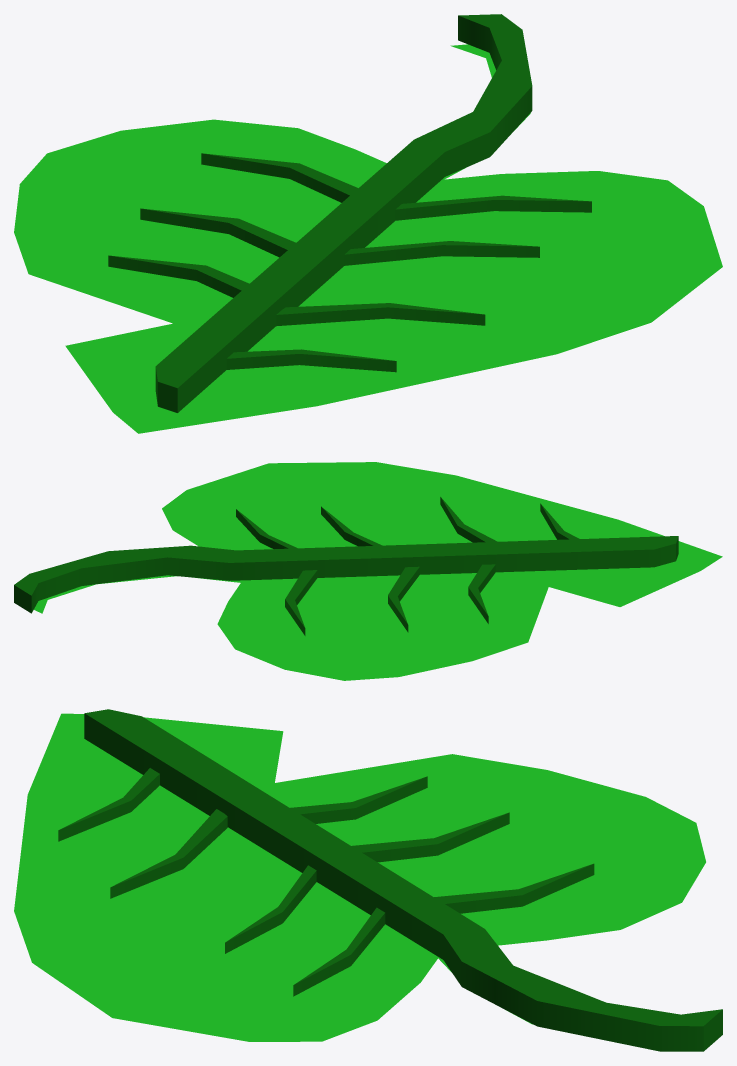
File: leaf.FBX
3 views of the same model, one above another, from view 1: azimuth 30°, elevation 25°; view 2: azimuth 150°, elevation 25°; view 3: azimuth 270°, elevation 25° (orthographic). The views are drawn at different scales.
Parts seen in each view (by area): view 1: Line023, Line024, Line027, Line025, Line028, Line030, Line029, Line026, Line031; view 2: Line023, Line024, Line029, Line026, Line031, Line027, Line025, Line028, Line030; view 3: Line023, Line024, Line029, Line026, Line027, Line031, Line030, Line025, Line028.
Part boxes in pixels (x1,y1,x2,y2): Line023: (14,44,722,433); Line024: (155,14,532,412); Line027: (276,303,485,326); Line025: (395,195,591,220); Line028: (344,241,539,265); Line030: (226,349,396,372); Line029: (201,153,358,202); Line026: (140,208,295,257); Line031: (108,255,249,297); Line023: (34,462,722,680); Line024: (14,536,678,613); Line029: (285,570,317,635); Line026: (388,566,419,632); Line031: (468,564,495,623); Line027: (440,497,497,542); Line025: (236,509,297,548); Line028: (321,506,382,546); Line030: (540,503,579,539); Line023: (14,713,705,1041); Line024: (84,709,722,1051); Line029: (434,863,594,913); Line026: (351,812,509,862); Line027: (110,809,227,898); Line031: (290,776,427,823); Line030: (58,768,159,841); Line025: (293,907,385,996); Line028: (225,865,316,953).
Size of the model in its own units: 28.38 by 1 by 25.15.
